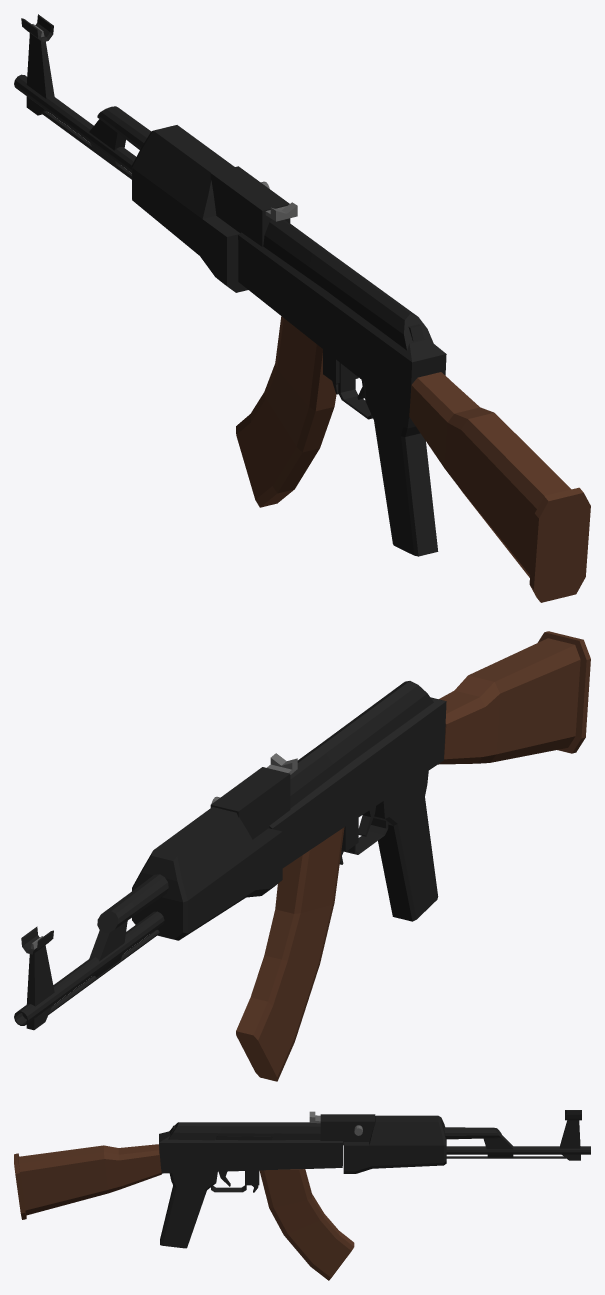
The model's file is AK47Good.glb.
3 views of the same model, one above another, from view 1: azimuth 30°, elevation 25°; view 2: azimuth 150°, elevation 25°; view 3: azimuth 270°, elevation 25° (orthographic). The views are drawn at different scales.
Parts seen in each view (by area): view 1: Gun, Mag; view 2: Gun, Mag; view 3: Gun, Mag.
Part boxes in pixels (box(x1,y1,x2,y2)): Gun: box(14, 14, 590, 602); Mag: box(236, 316, 336, 507); Gun: box(14, 631, 590, 1030); Mag: box(236, 827, 344, 1081); Gun: box(14, 1110, 590, 1248); Mag: box(259, 1169, 354, 1280).
Size of the model in its own units: 0.2721 by 1.47 by 4.63.
